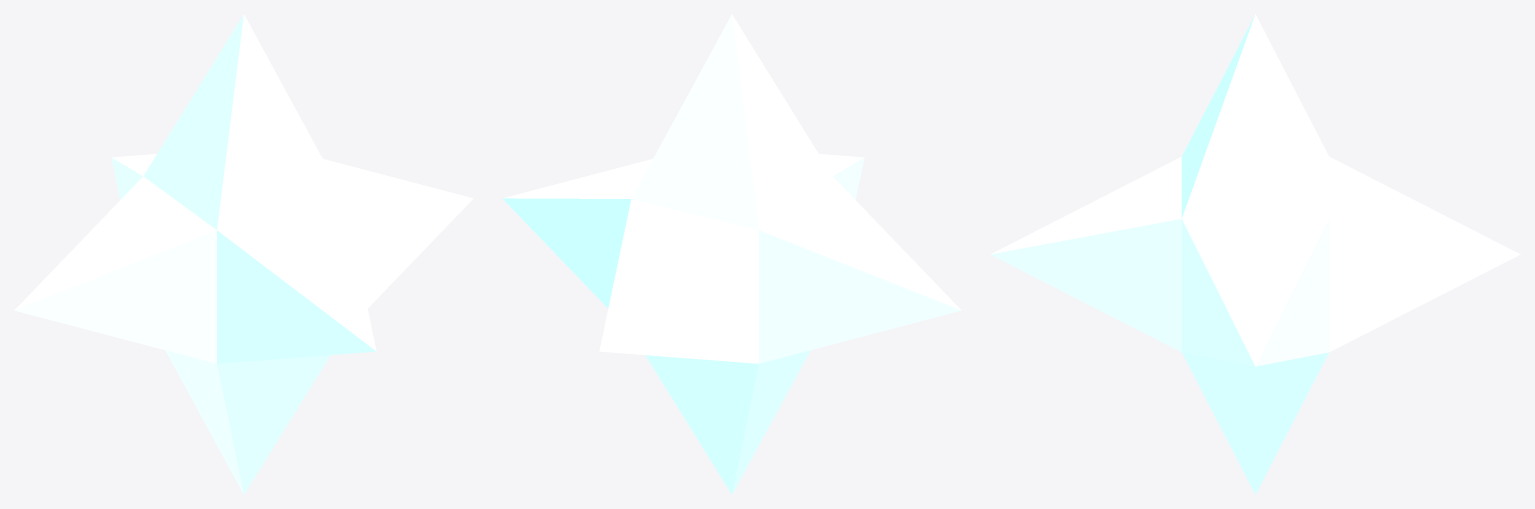
Rendered from StarShards.fbx.
The picture shows the model from 3 angles, left to right: view 1: azimuth 30°, elevation 25°; view 2: azimuth 150°, elevation 25°; view 3: azimuth 270°, elevation 25°; orthographic projection.
Parts seen in each view (by area): view 1: Cube.001; view 2: Cube.001; view 3: Cube.001.
Boxes of the visible parts, x1,y1,x2,y2 form: Cube.001: (14, 14, 473, 494); Cube.001: (502, 14, 961, 494); Cube.001: (990, 14, 1520, 494).
Size of the model in its own units: 741 by 741 by 741.
